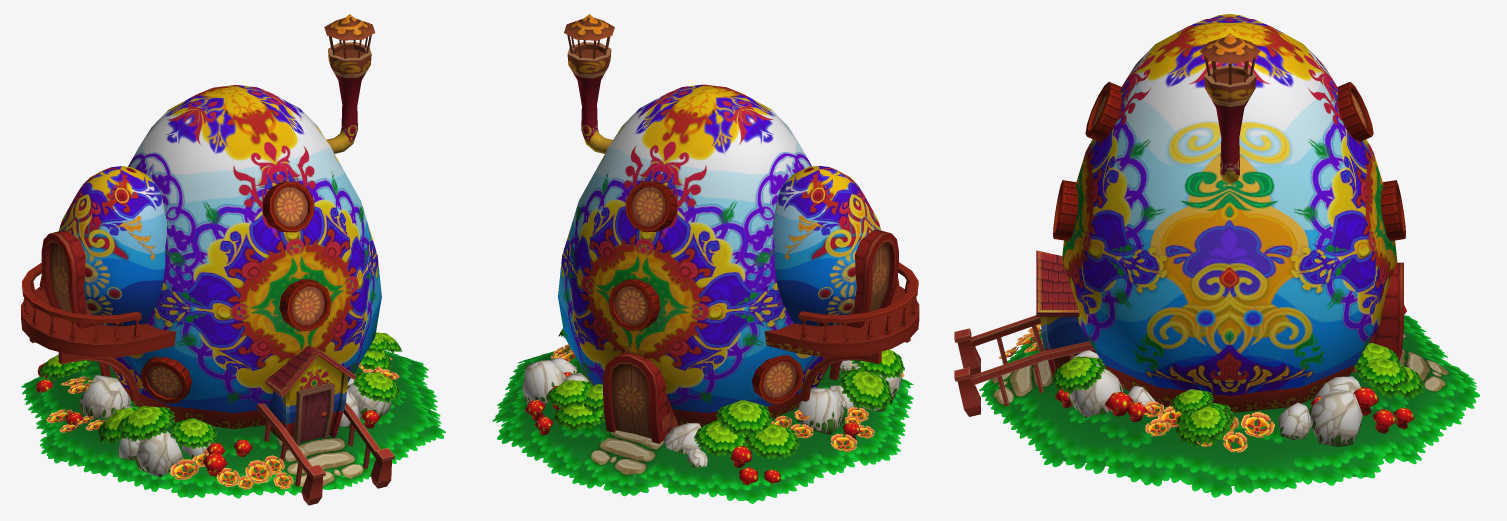
Rendered from Egg_House_10.FBX.
3 renders of one model, left to right at view 1: azimuth 30°, elevation 25°; view 2: azimuth 150°, elevation 25°; view 3: azimuth 270°, elevation 25°, orthographic. The views are drawn at different scales.
Parts seen in each view (by area): view 1: Egg_House_10; view 2: Egg_House_10; view 3: Egg_House_10.
Boxes of the visible parts, box(x1,y1,x2,y2) form: Egg_House_10: box(21, 14, 445, 505); Egg_House_10: box(492, 14, 919, 503); Egg_House_10: box(954, 14, 1479, 497).
Size of the model in its own units: 6.48 by 5.73 by 6.54.
